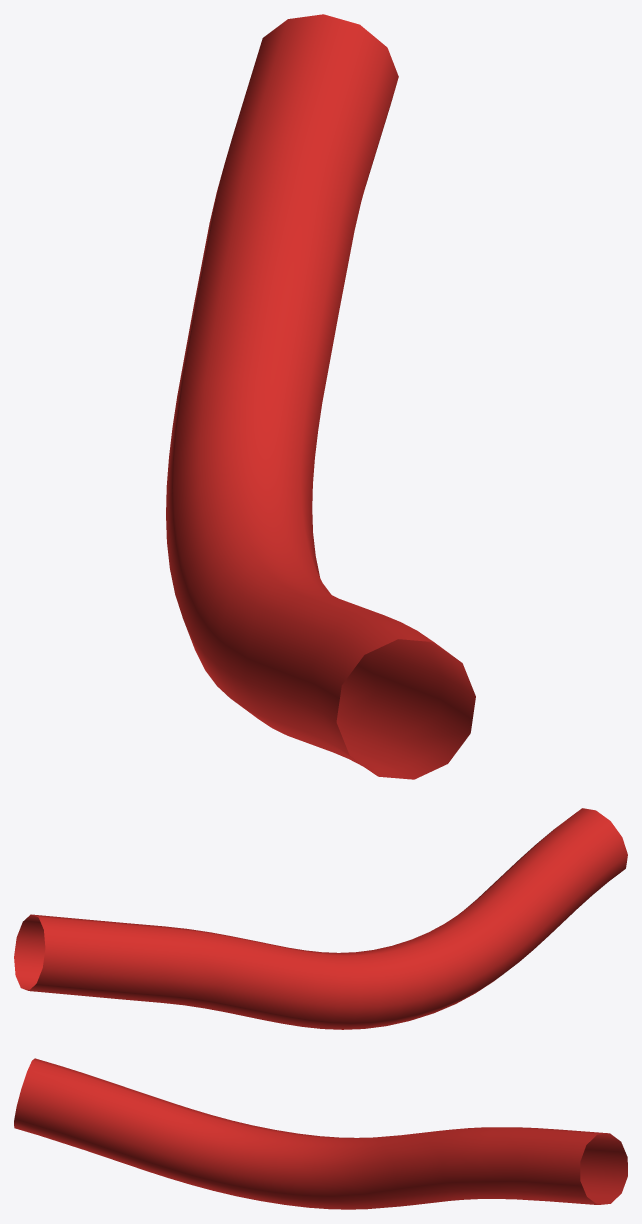
File: circulatorio-posterior-communicating-artery-r.glb
3 renders of one model, top to bottom at view 1: azimuth 30°, elevation 25°; view 2: azimuth 150°, elevation 25°; view 3: azimuth 270°, elevation 25°, orthographic. The views are drawn at different scales.
Parts seen in each view (by area): view 1: Posterior communicating artery.r; view 2: Posterior communicating artery.r; view 3: Posterior communicating artery.r.
Boxes of the visible parts, x1=… form: Posterior communicating artery.r: x1=166, y1=14, x2=475, y2=779; Posterior communicating artery.r: x1=14, y1=808, x2=627, y2=1029; Posterior communicating artery.r: x1=14, y1=1058, x2=627, y2=1209.
Bounding box in the file's own units: 0.00721 × 0.00364 × 0.0126.
